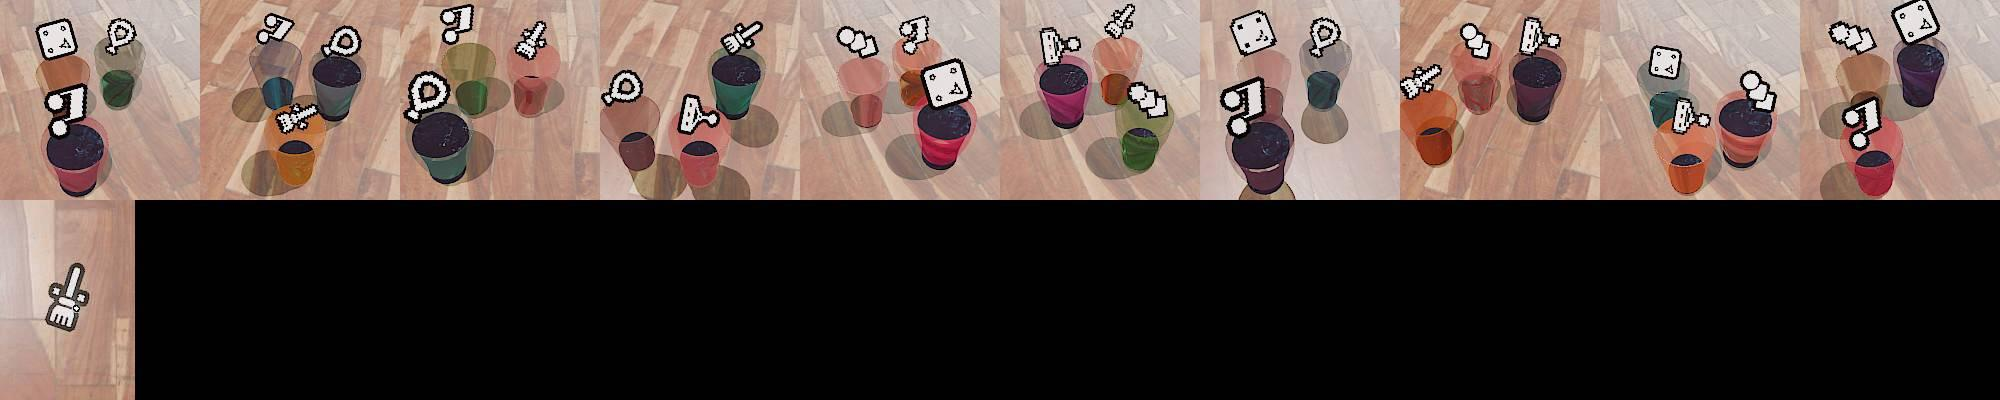icon: (45, 261, 91, 334), (920, 57, 973, 110), (42, 83, 89, 140), (403, 70, 453, 124), (1219, 75, 1265, 132), (1843, 93, 1884, 149), (1230, 10, 1276, 59), (1890, 0, 1939, 46), (1038, 25, 1085, 69), (36, 18, 79, 62), (1518, 15, 1562, 57), (599, 68, 647, 107), (677, 92, 721, 134), (1827, 20, 1876, 56), (1125, 79, 1170, 118), (1739, 69, 1777, 113), (1401, 61, 1444, 99), (273, 99, 320, 134), (1672, 96, 1713, 135), (439, 3, 476, 46), (835, 24, 879, 60), (321, 25, 364, 61), (514, 19, 550, 61), (721, 19, 761, 55), (258, 11, 295, 47), (1102, 3, 1136, 41), (1459, 22, 1492, 61), (1309, 17, 1342, 56), (898, 14, 931, 51), (105, 18, 136, 56), (1648, 46, 1682, 79)
